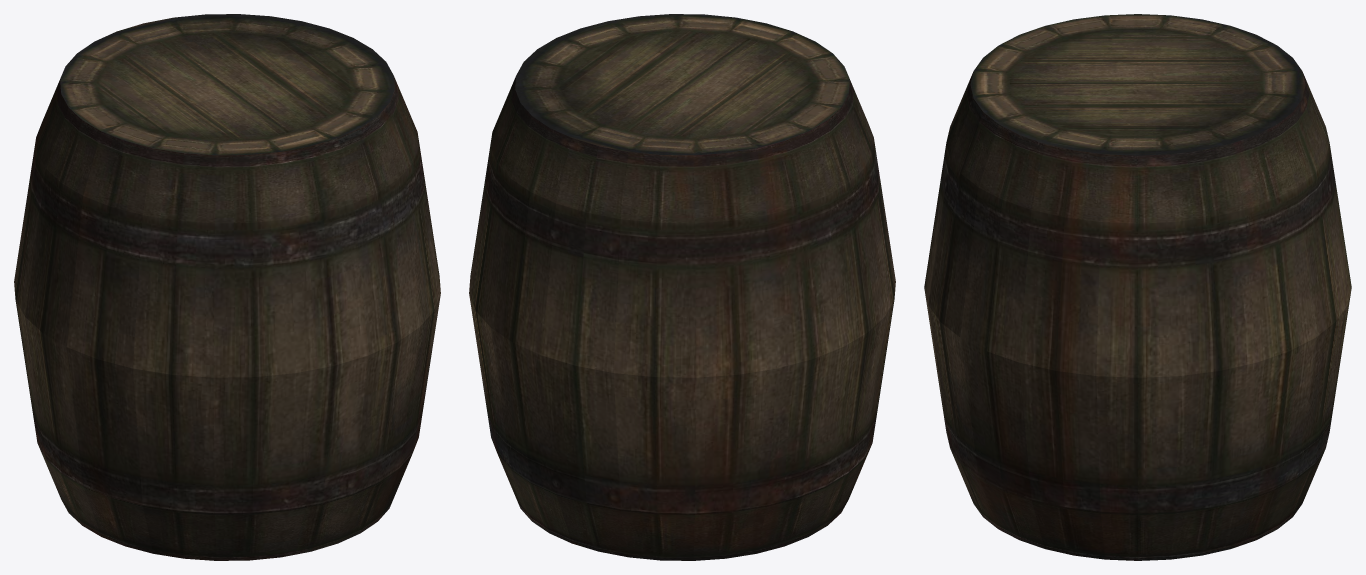
Rendered from Barril.fbx.
The picture shows the model from 3 angles, left to right: view 1: azimuth 30°, elevation 25°; view 2: azimuth 150°, elevation 25°; view 3: azimuth 270°, elevation 25°; orthographic projection.
Parts seen in each view (by area): view 1: Cylinder; view 2: Cylinder; view 3: Cylinder.
Part boxes in pixels (left/top/right/bottom): Cylinder: left=14, top=14, right=440, bottom=560; Cylinder: left=469, top=14, right=895, bottom=560; Cylinder: left=924, top=14, right=1351, bottom=560.
Size of the model in its own units: 313 by 327 by 313.
1 material, 1 textured.
